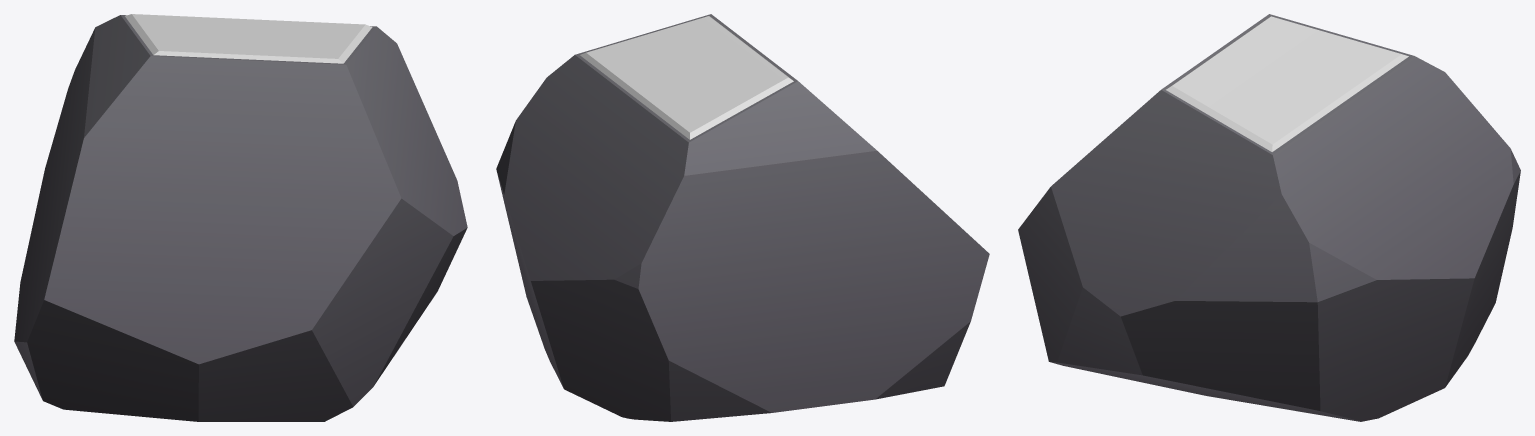
The model's file is Rock_16.glb.
3 renders of one model, left to right at view 1: azimuth 30°, elevation 25°; view 2: azimuth 150°, elevation 25°; view 3: azimuth 270°, elevation 25°, orthographic. The views are drawn at different scales.
Visible parts, largest first — view 1: Rock_16_LOD0; view 2: Rock_16_LOD0; view 3: Rock_16_LOD0.
Part boxes in pixels (<box>): Rock_16_LOD0: <box>14,14,467,421</box>; Rock_16_LOD0: <box>496,14,989,421</box>; Rock_16_LOD0: <box>1018,14,1520,421</box>.
Size of what is drawn, in the model's own units: 1.11 by 0.8311 by 1.08.
1 material, 1 textured.
